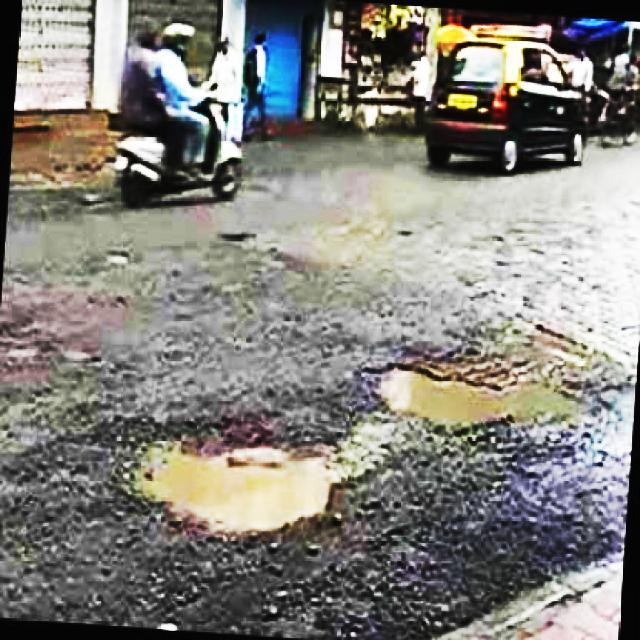pothole: (129, 426, 363, 542), (366, 341, 612, 434)
